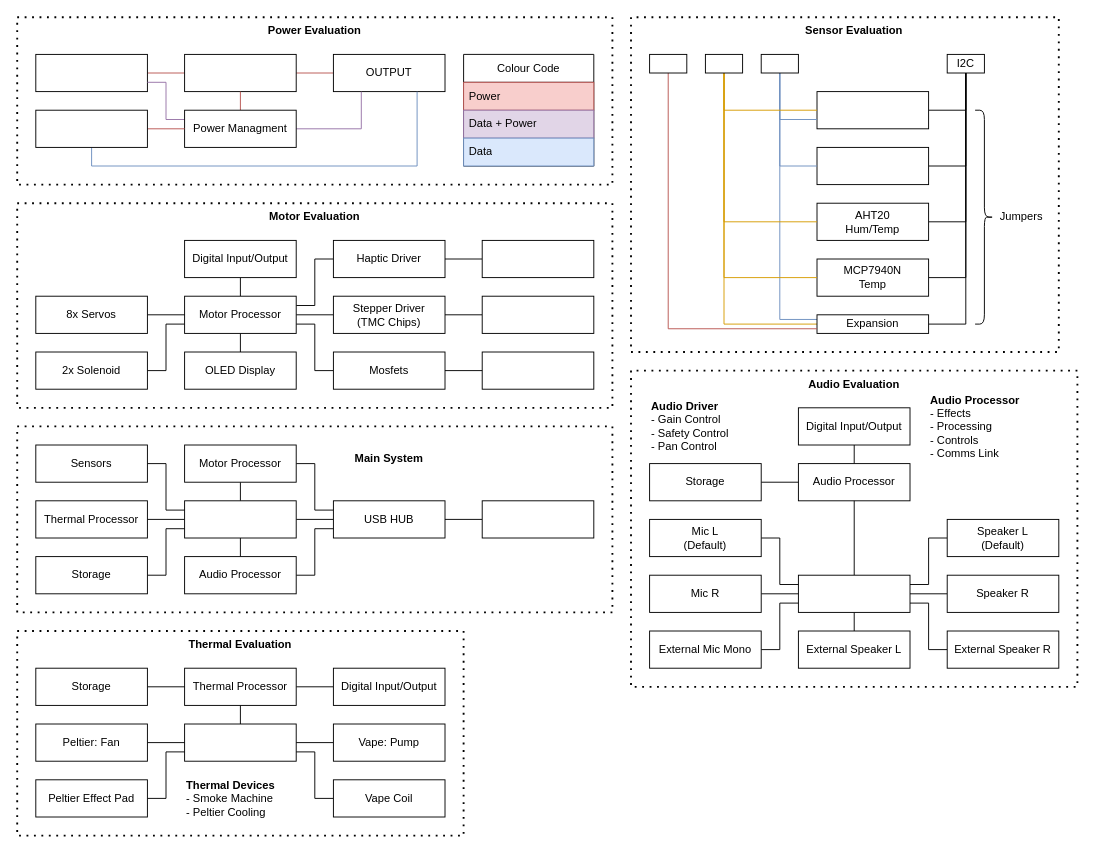
This 1095x853 diagram has some shape labels left out. Each missing label, with the centre of its shape:
"1V8" belongs at pixel 779 63.
"2x Fans" belongs at pixel 537 370.
"2x Stepper Ports" belongs at pixel 537 314.
"3V3" belongs at pixel 723 63.
"3x Haptic Motors" belongs at pixel 537 258.
"5V" belongs at pixel 668 63.
"Audio Driver" belongs at pixel 853 593.
"Battery Managment System" belongs at pixel 91 72.
"BMP388 Press/Temp" belongs at pixel 872 165.
"ICM-20948 Accel/Gyro/Mag" belongs at pixel 872 110.
"Main Processor" belongs at pixel 240 519.
"Power Conditioning" belongs at pixel 240 72.
"Thermal Driver" belongs at pixel 240 742.
"USB Port" belongs at pixel 537 519.
"USBC PD Trigger" belongs at pixel 91 128.
